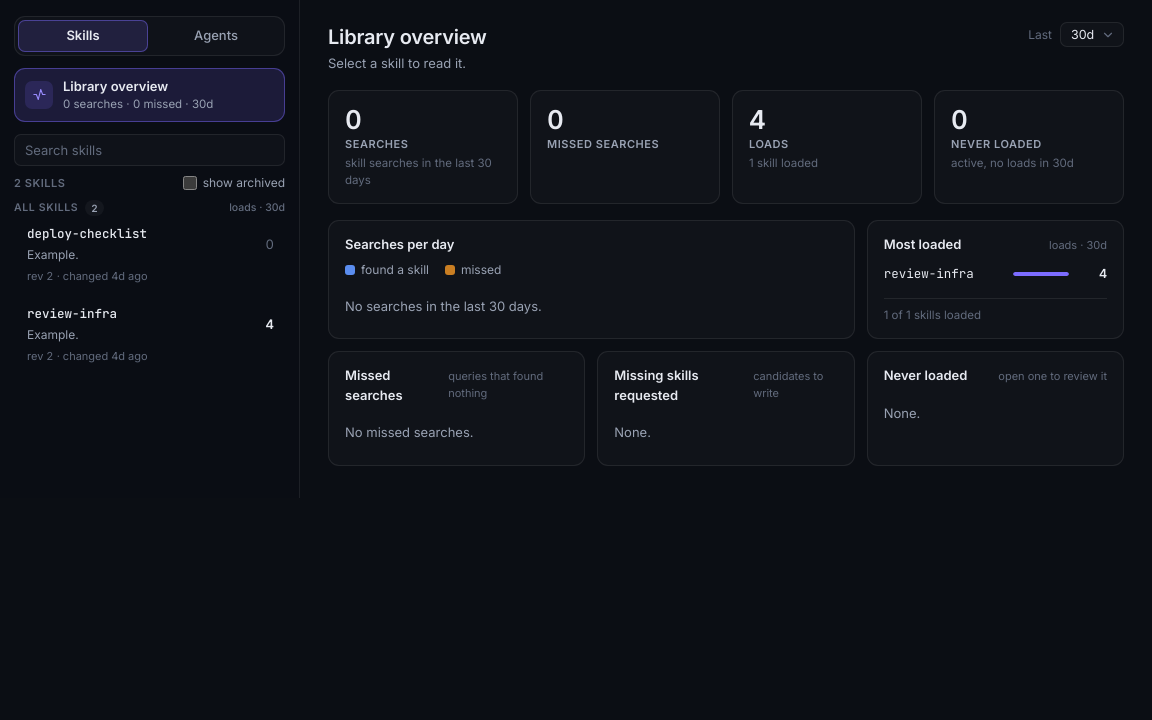
it: SkillsPage › switches to agents, hides the usage panels, and keeps the choice in the URL
This screenshot has width=1152, height=720.
Expected: the element named "Library usage" is shown, x1=300 y1=0 x2=1151 y2=498
Click the tab "Agents": [216, 36] box x1=151 y1=20 x2=281 y2=52
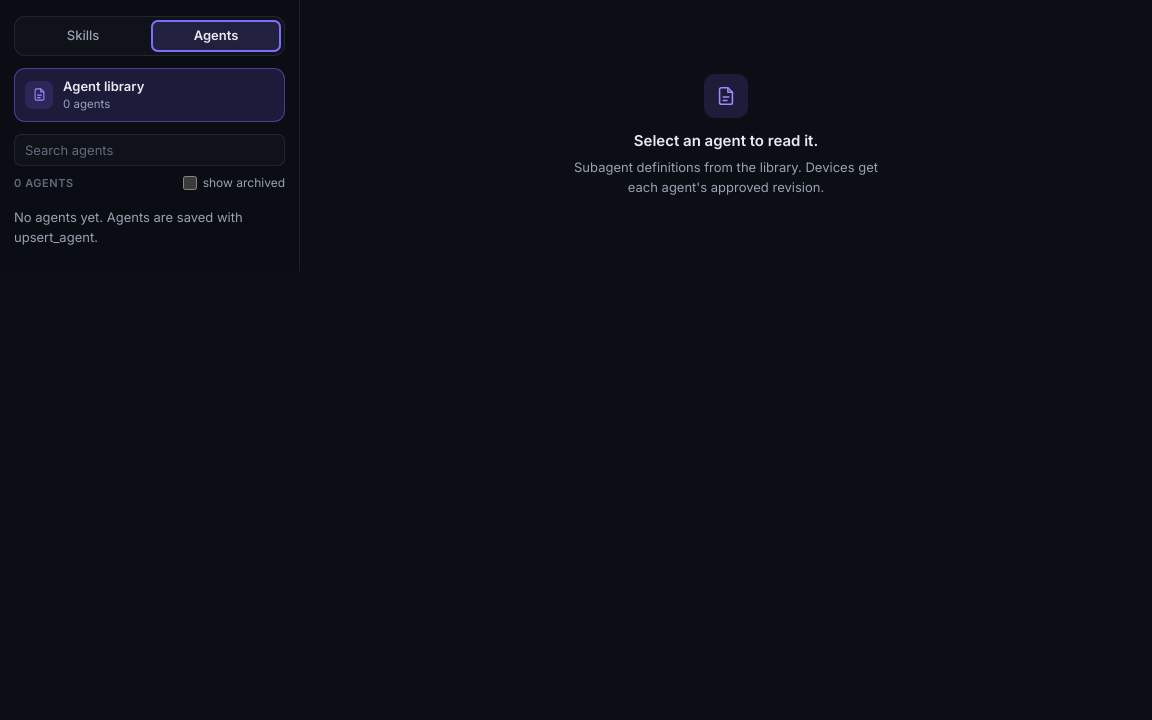
Expected: the text "Select an agent to read it." is shown, x1=634 y1=130 x2=818 y2=152
